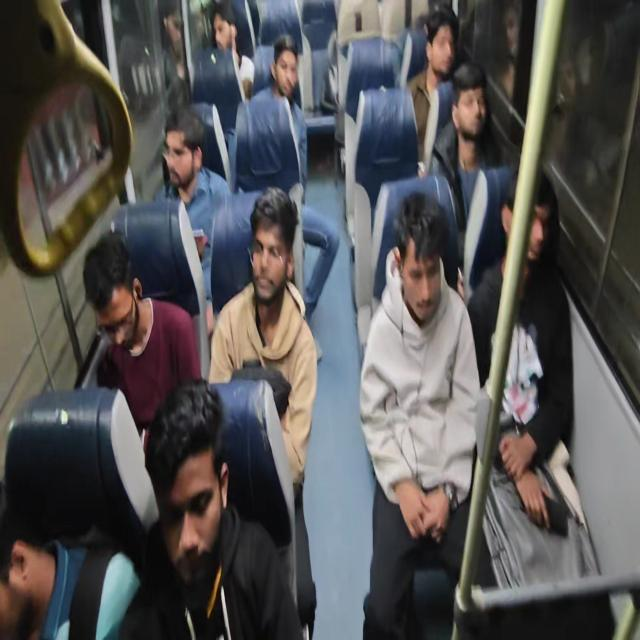person: (0, 412, 79, 640), (91, 201, 164, 417), (156, 408, 236, 605), (230, 151, 298, 307), (391, 169, 450, 323), (162, 86, 232, 187), (261, 30, 316, 114), (502, 165, 546, 264), (456, 76, 498, 163), (433, 21, 472, 110), (213, 0, 247, 52), (418, 1, 433, 25)
